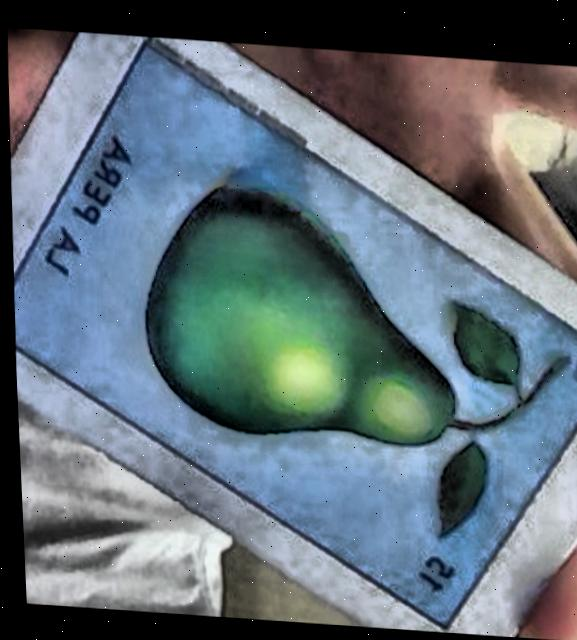La Pera: (10, 36, 577, 624)
